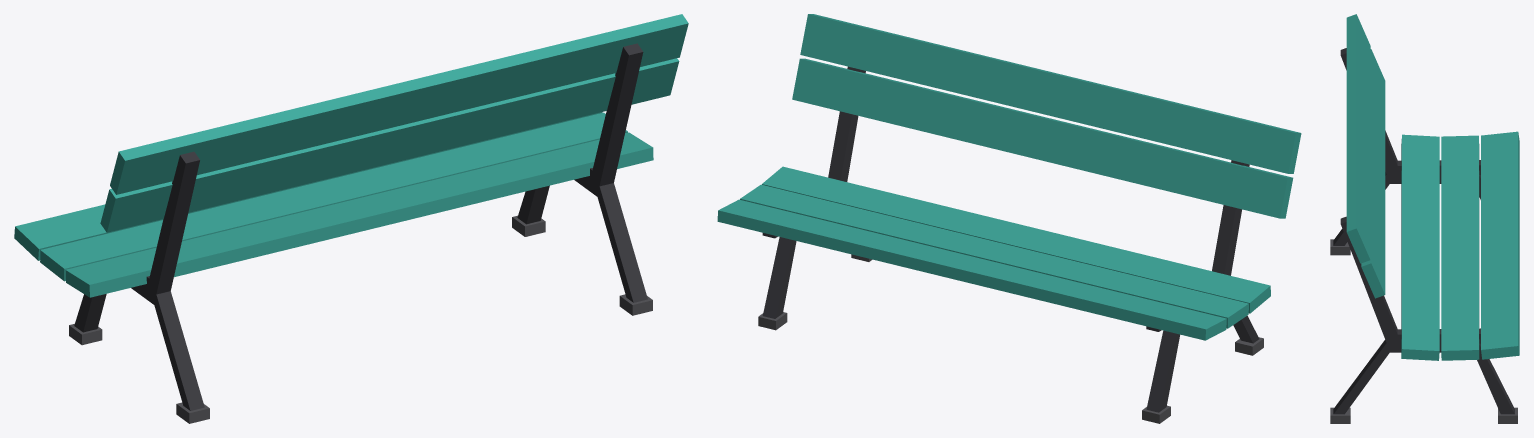
The model's file is Bench1_a_LP_LOD0.FBX.
3 views of the same model, side by side, from view 1: azimuth 30°, elevation 25°; view 2: azimuth 150°, elevation 25°; view 3: azimuth 270°, elevation 25° (orthographic). The views are drawn at different scales.
Parts seen in each view (by area): view 1: Bench1_a_LP_LOD0; view 2: Bench1_a_LP_LOD0; view 3: Bench1_a_LP_LOD0.
Part boxes in pixels (x1,y1,x2,y2): Bench1_a_LP_LOD0: (14, 14, 688, 423); Bench1_a_LP_LOD0: (717, 14, 1301, 423); Bench1_a_LP_LOD0: (1330, 14, 1519, 423).
Bounding box in the file's own units: 3.53 × 1.63 × 1.32.
